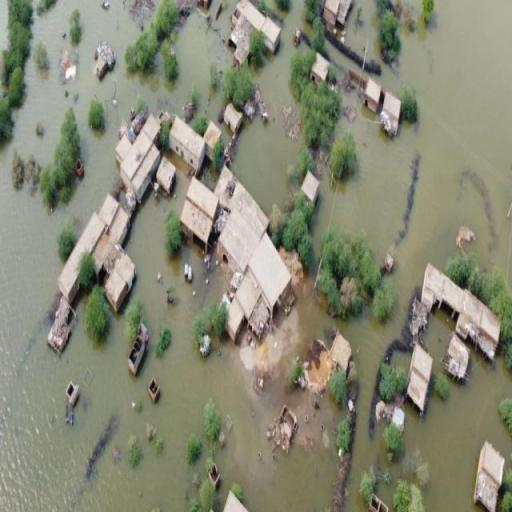flood: (0, 0, 512, 512), (230, 0, 314, 214), (406, 350, 512, 512)
house: (216, 186, 298, 332), (414, 253, 500, 392), (52, 198, 146, 302), (114, 114, 161, 209), (229, 0, 283, 62), (472, 438, 506, 512), (171, 114, 204, 176), (320, 0, 353, 31)
